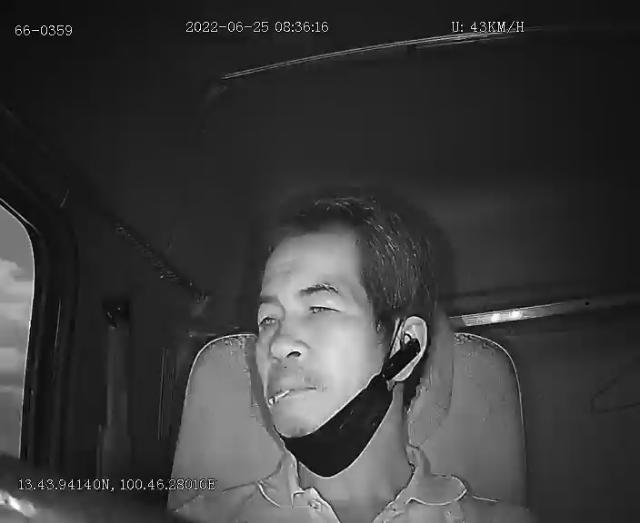SafeDriving: (300, 292, 344, 322), (254, 300, 286, 337)
Smoking: (266, 390, 288, 406)
